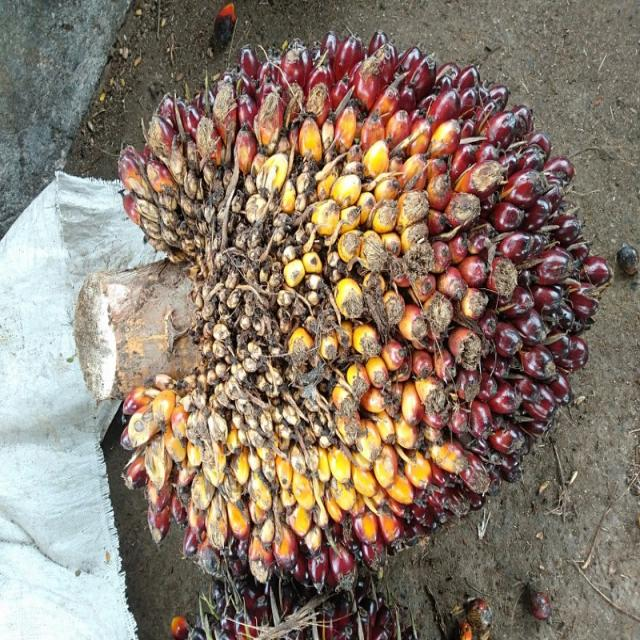fraksi 1: (136, 37, 592, 588)
